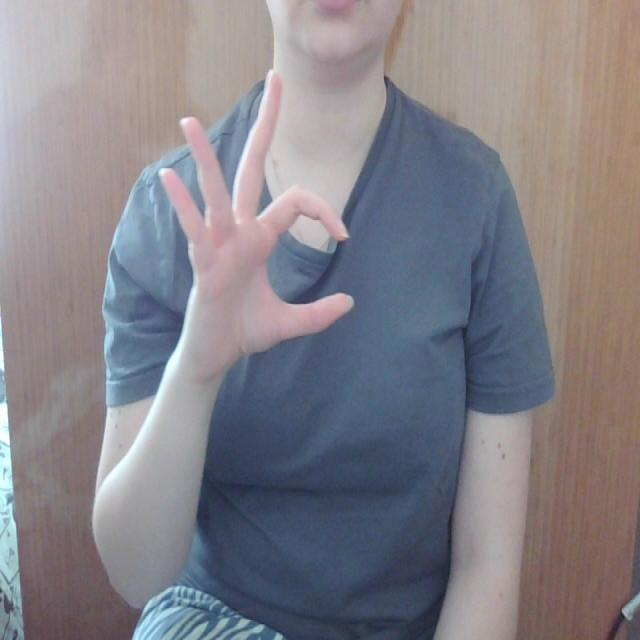Tuvalet: (144, 57, 374, 379)
